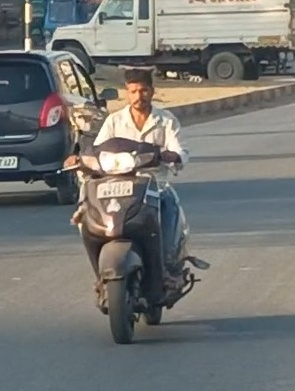BikeWithRider: (53, 63, 215, 347)
NoHelmet: (117, 65, 160, 112)
